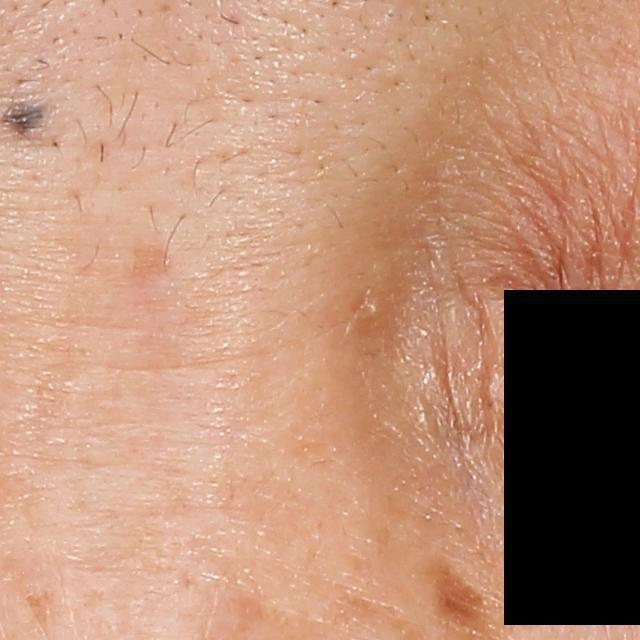melasma: (126, 235, 185, 286), (23, 588, 53, 632)
nevus: (5, 104, 55, 145)
